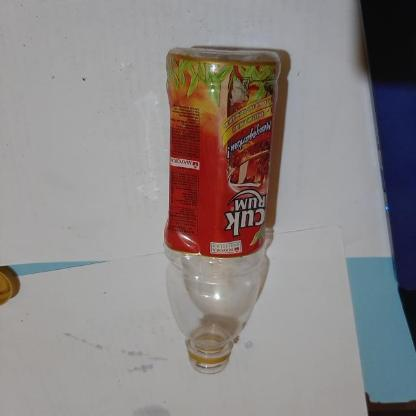Plastic Bottle: (162, 46, 282, 372)
